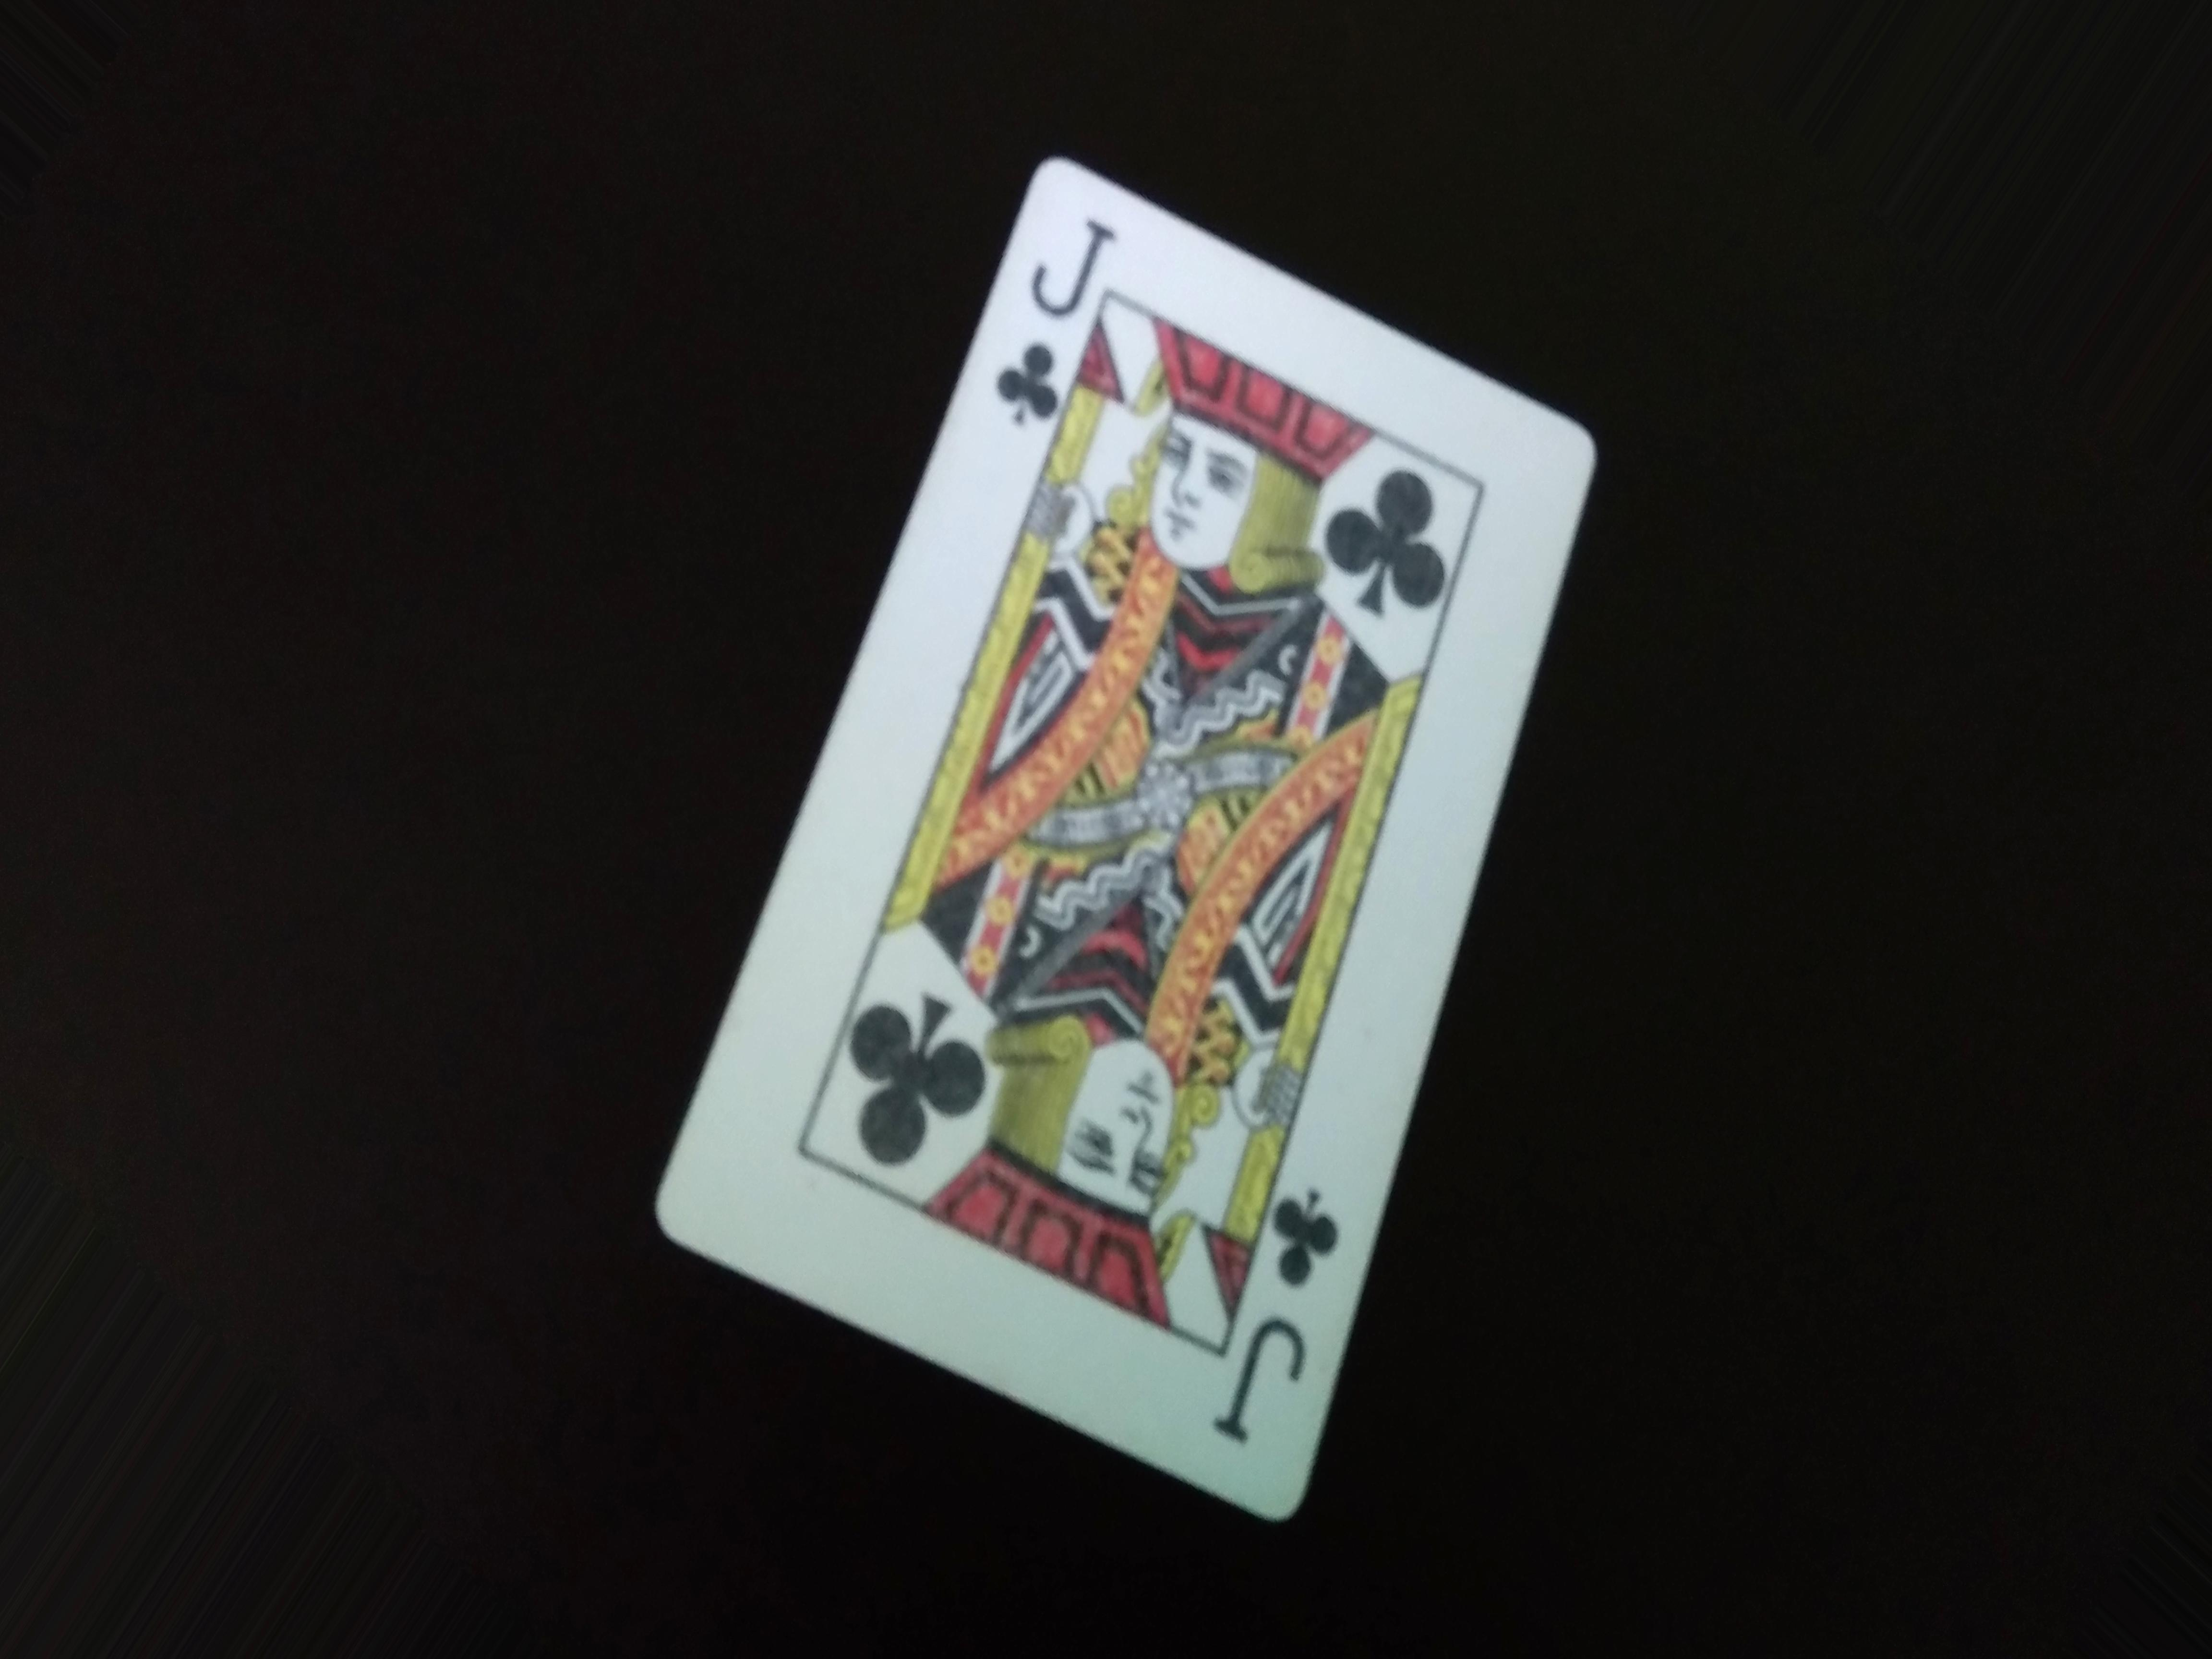JC: (988, 195, 1129, 439)
